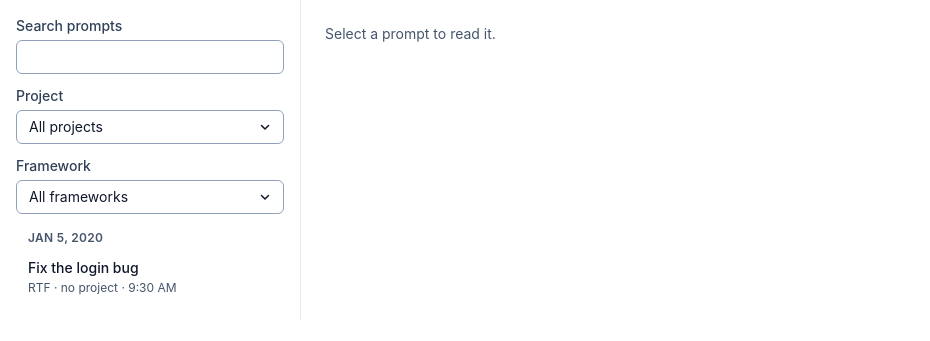
Test: EntryDetail › changing_the_project_updates_the_entry
Click the button "Fix the login bug RTF · no project · 9:30 AM" at [150, 277], box [16,250,284,304]
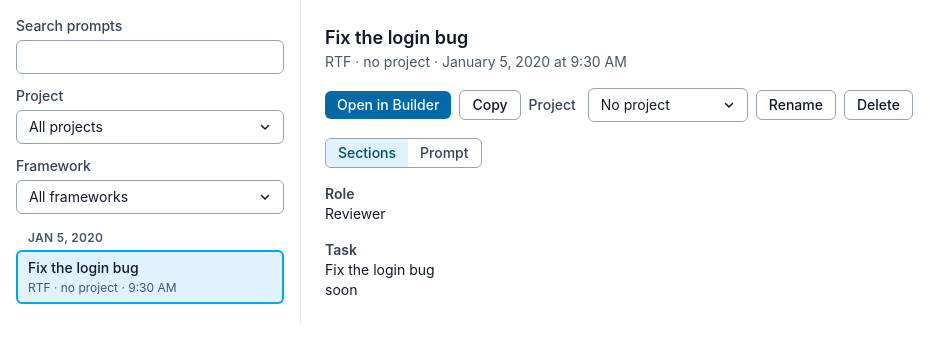
Click the dropdown labelled "project" at [668, 105], box [588,88,748,122]
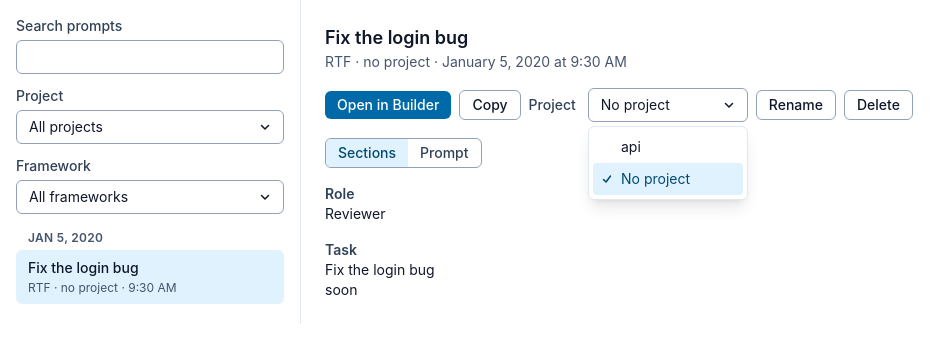
Click the option "api" at [631, 146], box [621,138,641,155]
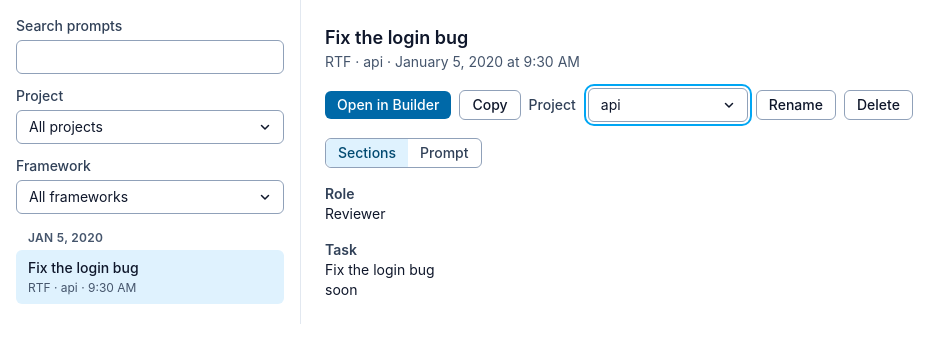
Result: the text "RTF · api · January 5, 2020 at 9:30 AM" is shown at [325,53,580,70]
